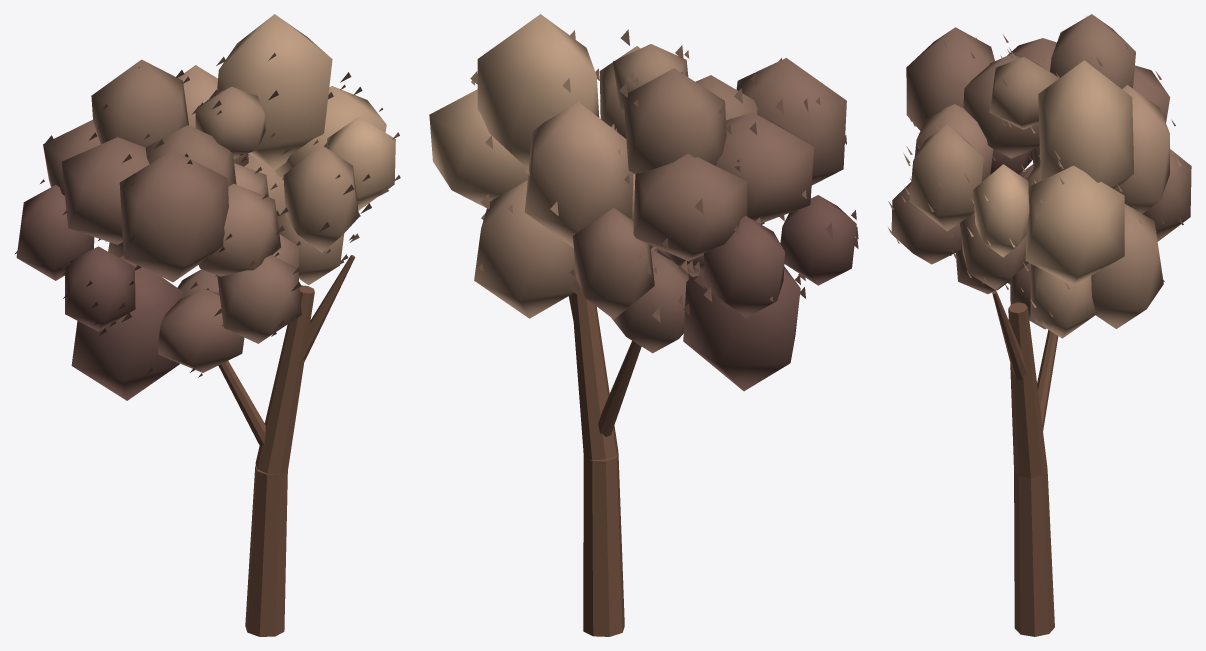
The model's file is grove_oak.glb.
3 views of the same model, side by side, from view 1: azimuth 30°, elevation 25°; view 2: azimuth 150°, elevation 25°; view 3: azimuth 270°, elevation 25° (orthographic). The views are drawn at different scales.
Parts seen in each view (by area): view 1: AutumnLeaves, OakWood; view 2: AutumnLeaves, OakWood; view 3: AutumnLeaves, OakWood.
Boxes of the visible parts, bbox=[...] form: AutumnLeaves: bbox=[14, 14, 400, 400]; OakWood: bbox=[218, 255, 354, 636]; AutumnLeaves: bbox=[429, 14, 858, 391]; OakWood: bbox=[568, 286, 641, 636]; AutumnLeaves: bbox=[888, 14, 1191, 338]; OakWood: bbox=[992, 290, 1058, 636].
Size of the model in its own units: 3.38 by 5.28 by 2.49.
